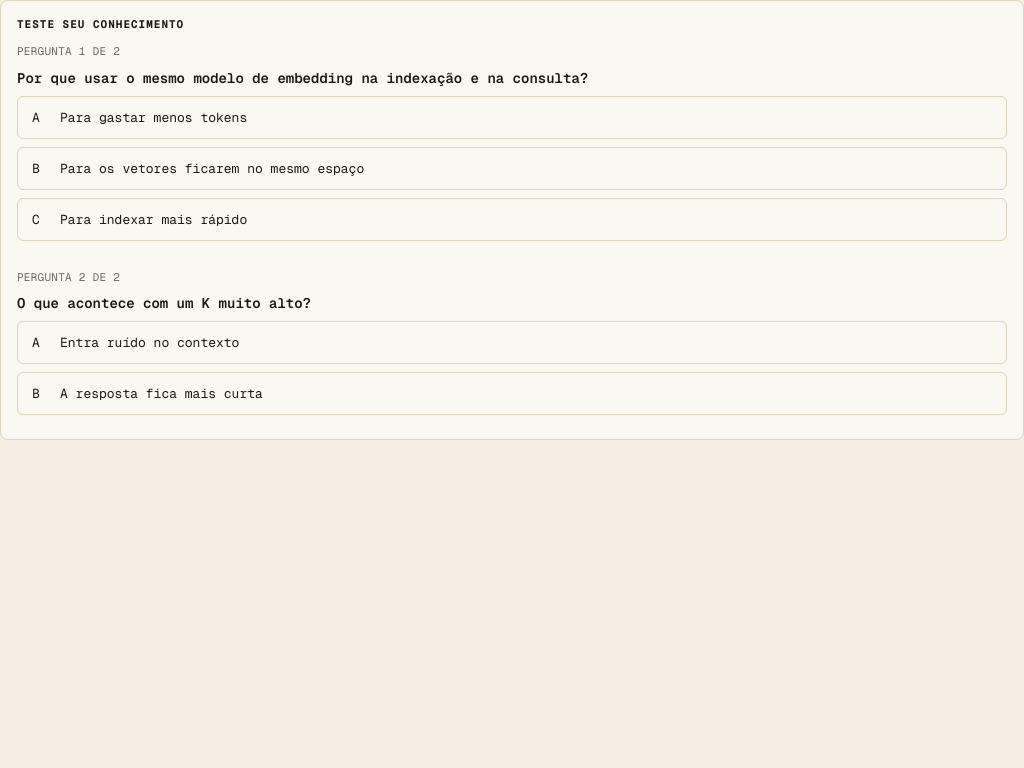
KnowledgeCheck (LES-01.12) › resposta errada marca a escolha como errada, aponta a certa e mostra a explicação
Click the button "A Para gastar menos tokens" at (154, 117), box 17,96 -> 1007,138
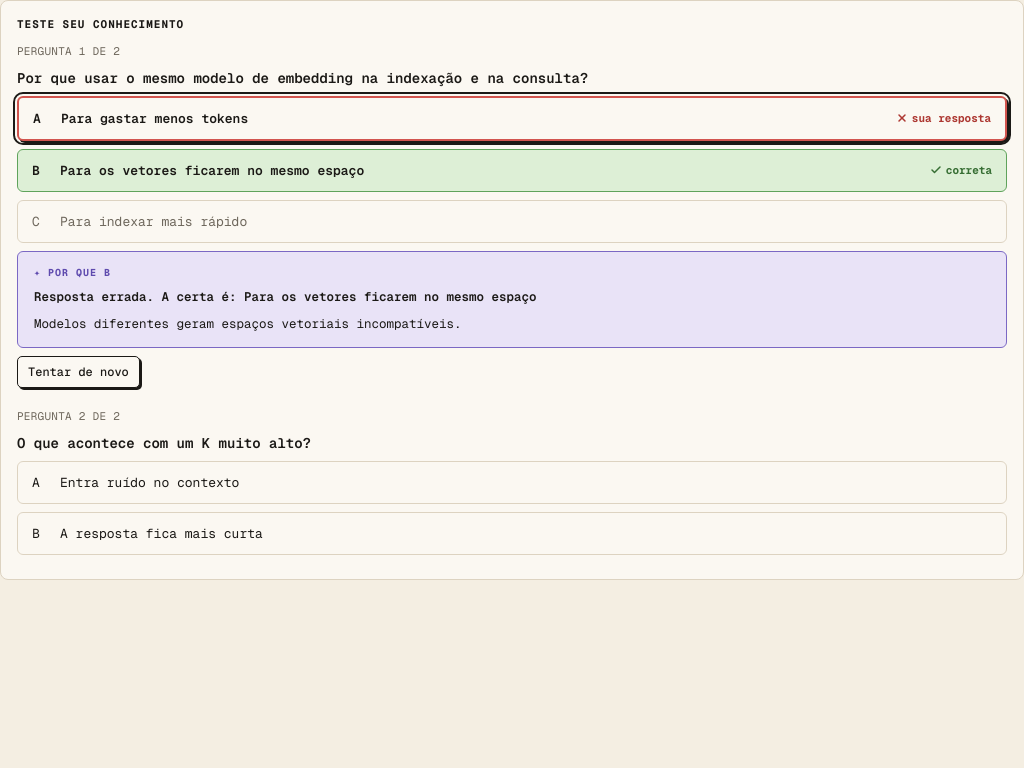
Expected: the message shows "Resposta errada. A certa é: Para os vetores ficarem no mesmo espaço", 34,288 -> 536,304
Expected: the message shows "Modelos diferentes geram espaços vetoriais incompatíveis.", 34,315 -> 462,332
